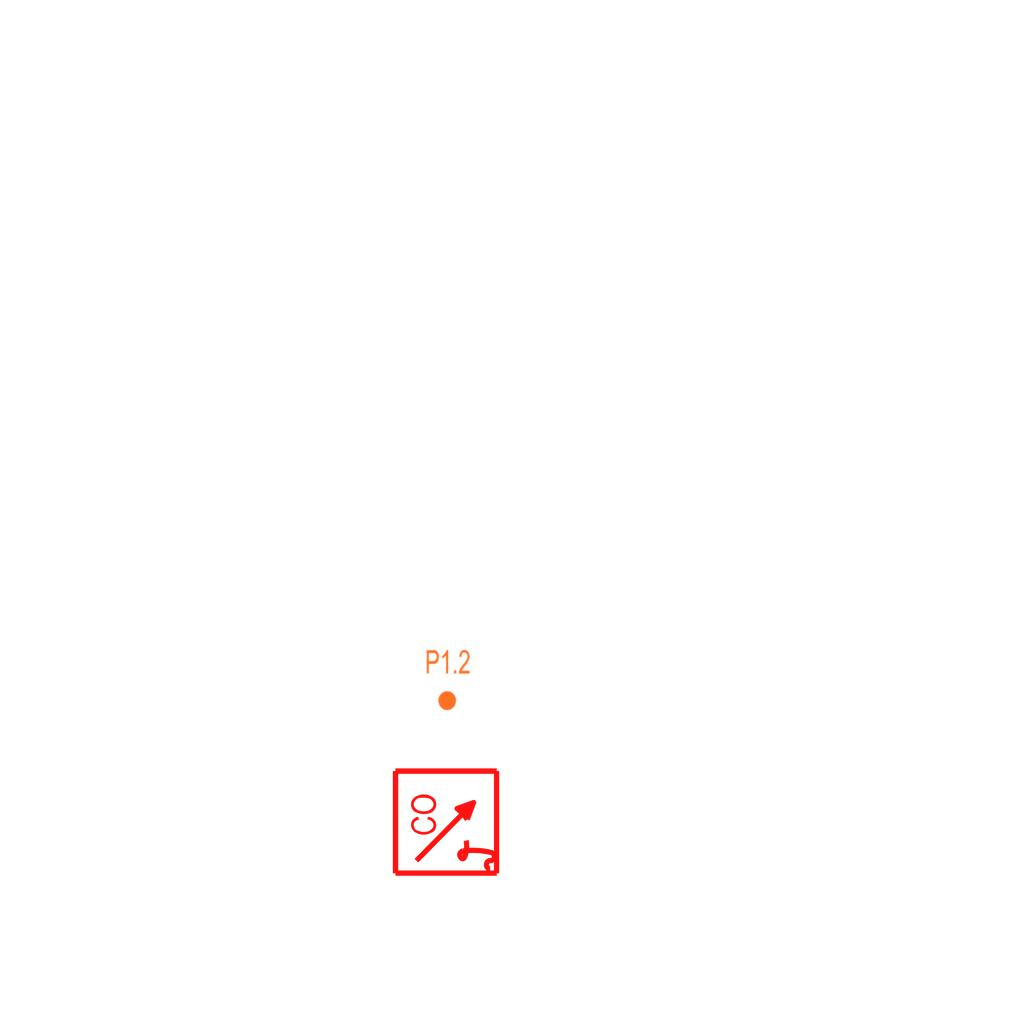Downlight_LED_Einbauleuchten_Flur: (425, 648, 471, 712)
ROA_Rauchmelder_optisch_mit_Signalgeber_(Sockelsirene): (391, 765, 504, 878)
